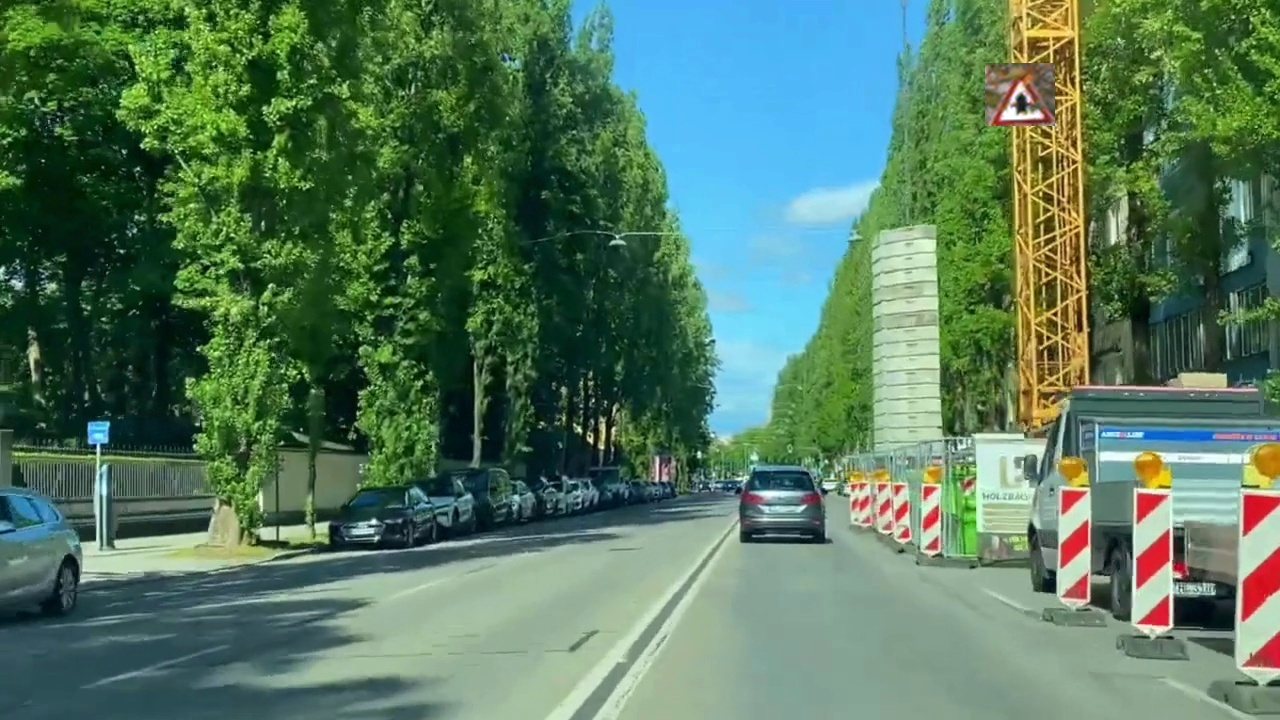Right-of-way: (985, 63, 1055, 126)
